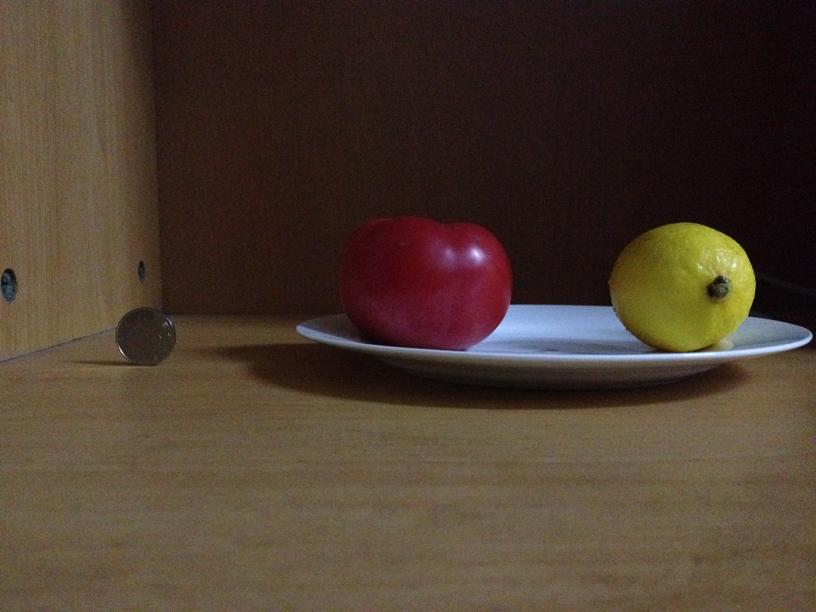coin: (116, 306, 176, 366)
lemon: (612, 220, 757, 352)
tomato: (337, 214, 509, 348)
